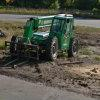Tractor: (13, 5, 84, 62)
